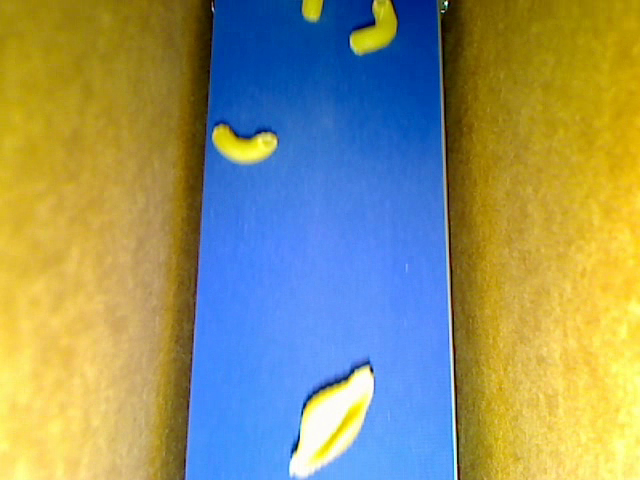elbow: (210, 121, 277, 165), (349, 1, 397, 56)
shell: (288, 363, 374, 478)
